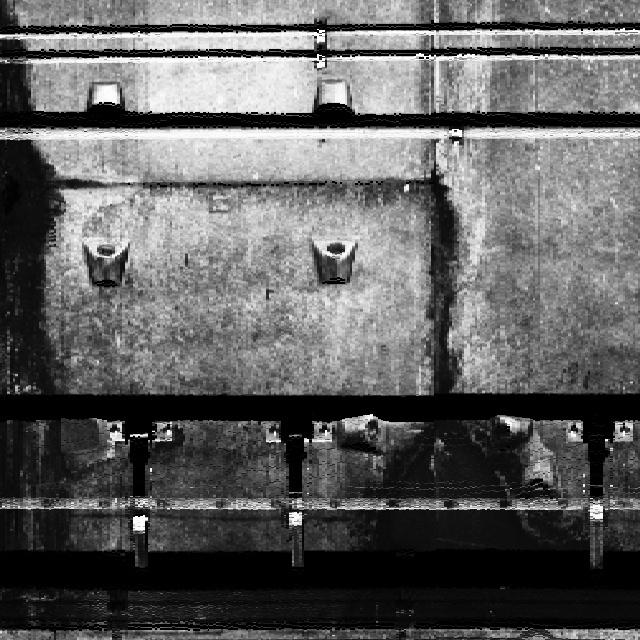leakage: (364, 172, 571, 555), (0, 6, 73, 631)
